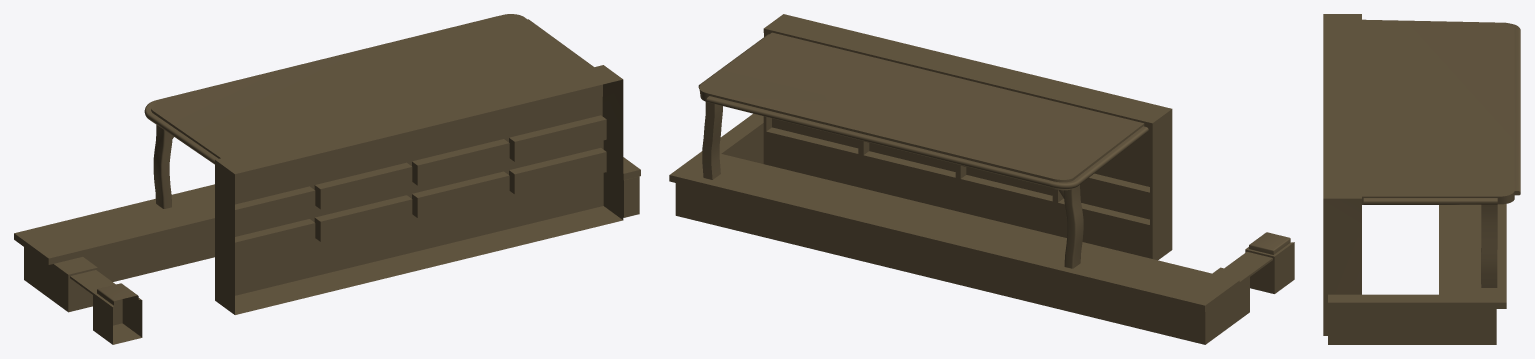
File: BS_Bar.fbx
3 renders of one model, left to right at view 1: azimuth 30°, elevation 25°; view 2: azimuth 150°, elevation 25°; view 3: azimuth 270°, elevation 25°, orthographic. The views are drawn at different scales.
Visible parts, largest first — view 1: Cube.014; view 2: Cube.014; view 3: Cube.014.
Boxes of the visible parts, <box> form: Cube.014: <box>14,14,640,344</box>; Cube.014: <box>669,14,1294,344</box>; Cube.014: <box>1323,14,1520,344</box>.
Size of the model in its own units: 12.04 by 3.03 by 3.95.
